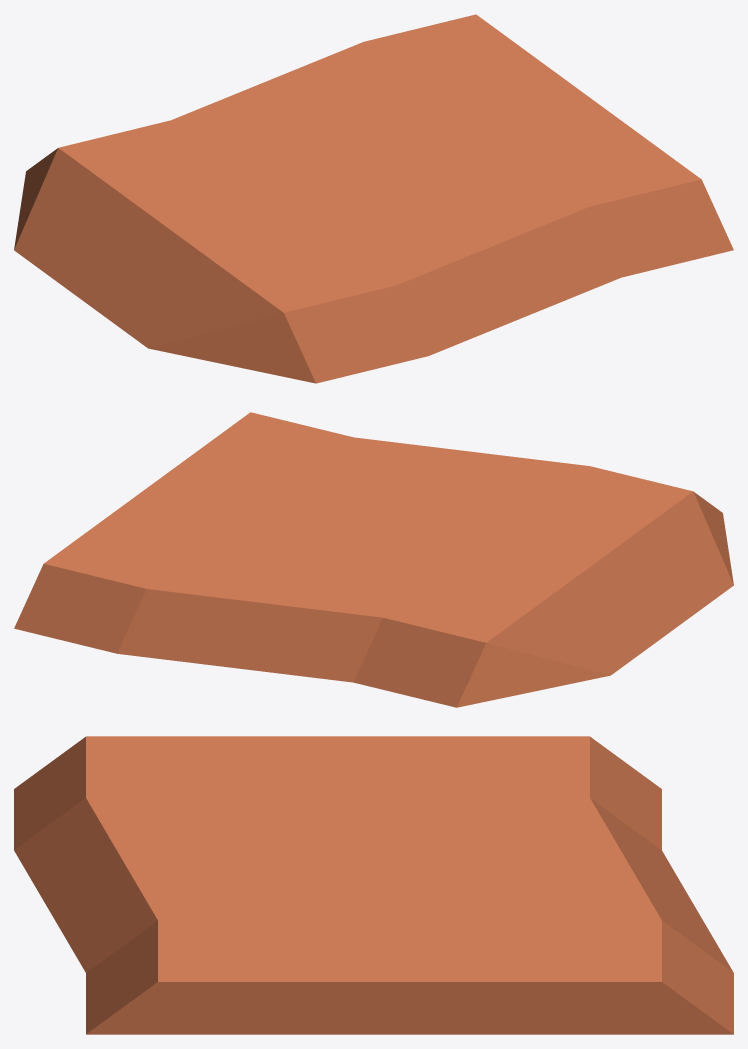
The model's file is crops_dirtRowEnd.glb.
The picture shows the model from 3 angles, top to bottom: view 1: azimuth 30°, elevation 25°; view 2: azimuth 150°, elevation 25°; view 3: azimuth 270°, elevation 25°; orthographic projection. The views are drawn at different scales.
Visible parts, largest first — view 1: crops_dirtRowEnd; view 2: crops_dirtRowEnd; view 3: crops_dirtRowEnd.
Part boxes in pixels (<box>): crops_dirtRowEnd: <box>14,14,733,383</box>; crops_dirtRowEnd: <box>14,412,733,707</box>; crops_dirtRowEnd: <box>14,736,733,1034</box>.
Bounding box in the file's own units: 0.6 × 0.05 × 0.62.
